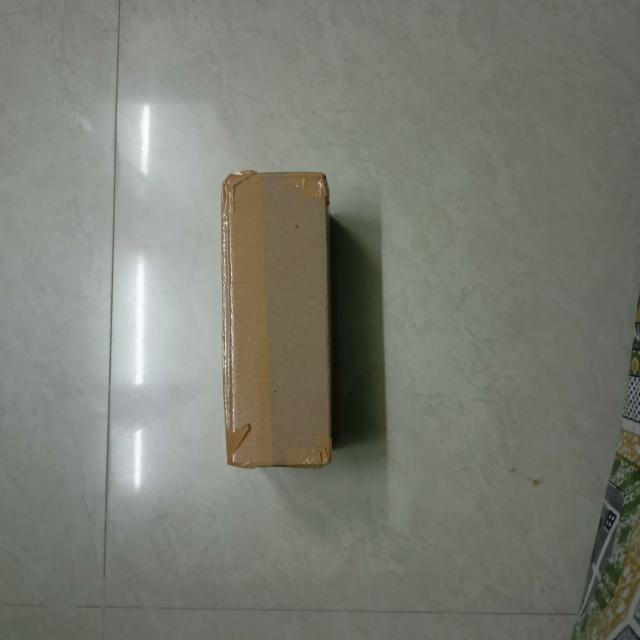box: (220, 172, 334, 472)
